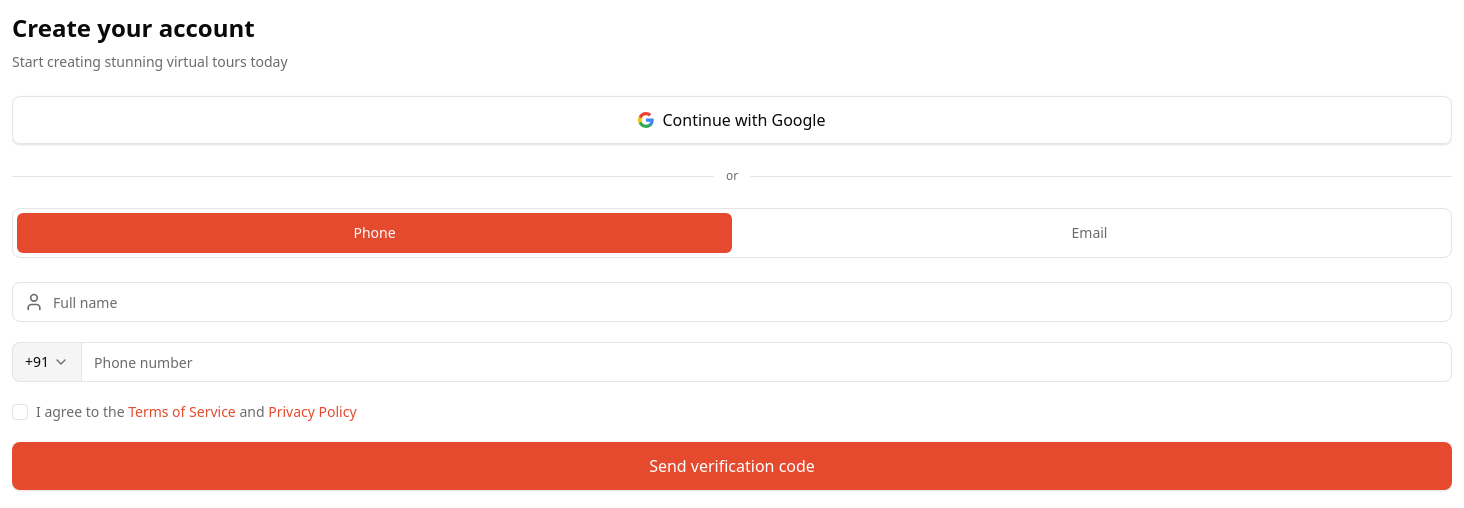
it: RegisterPage identifier gate › re-checks identifier status on resend and blocks when the status service is down
Click the tab "Email". click: [1090, 233]
box: [732,213,1447,253]
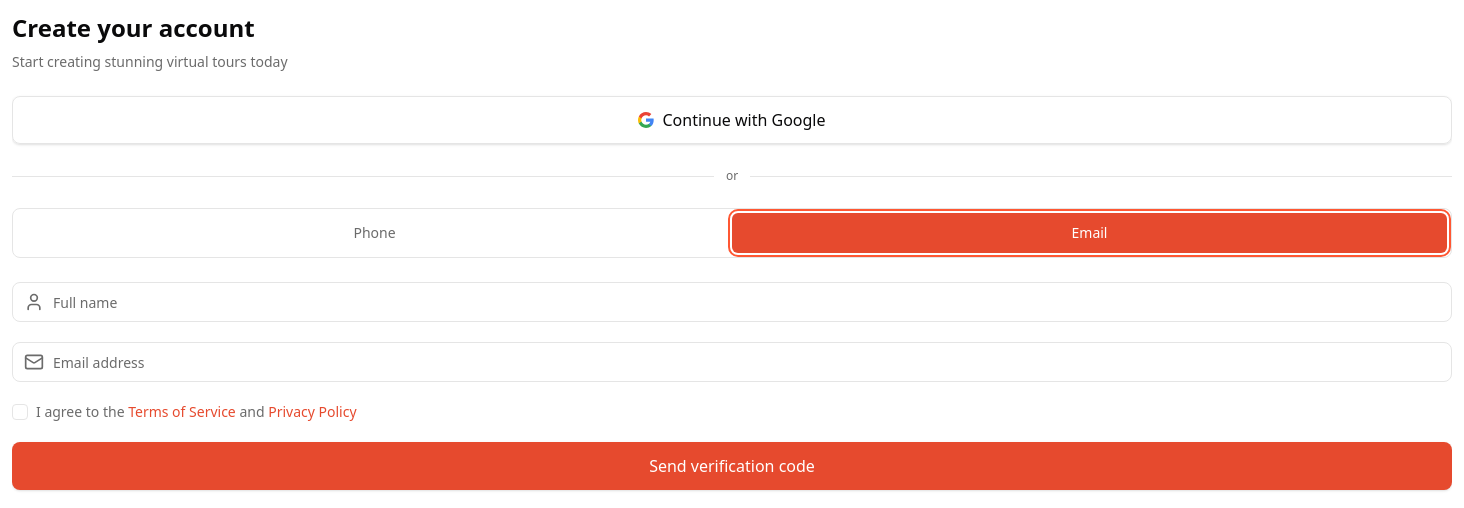
Type "Jane Doe" into the field labelled "Full name". click: [732, 302]
box: [12,282,1452,322]
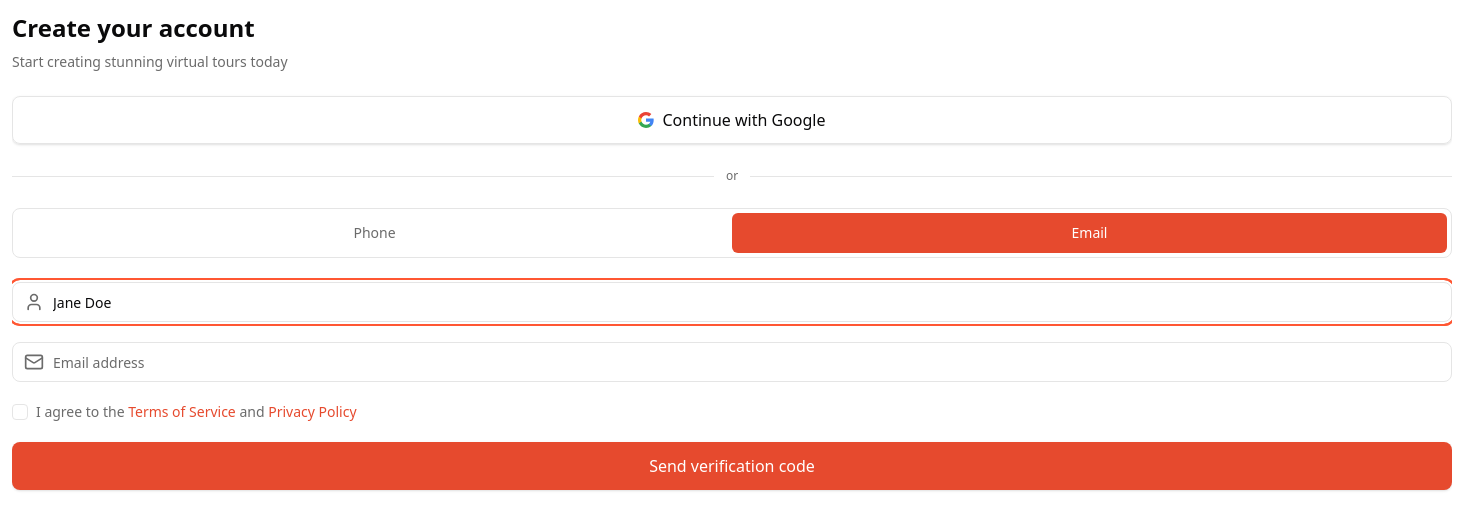
Type "new@example.com" into the field labelled "Email address". click: [732, 362]
box: [12,342,1452,382]
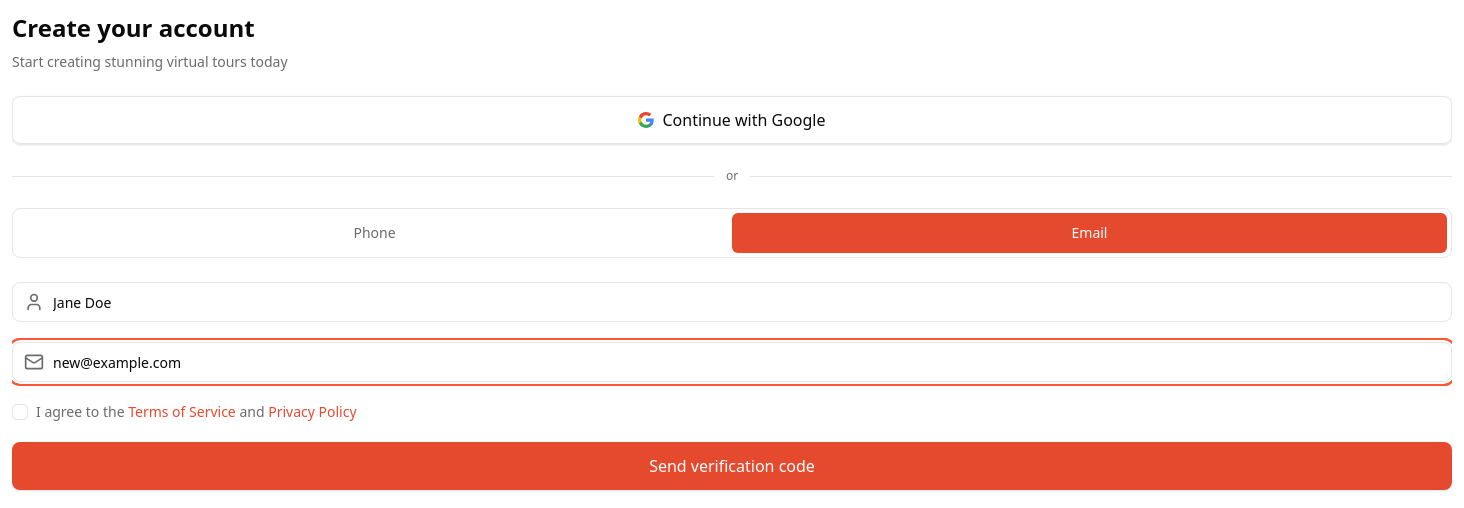
Click the checkbox. click: [20, 412]
box: [12,404,28,420]
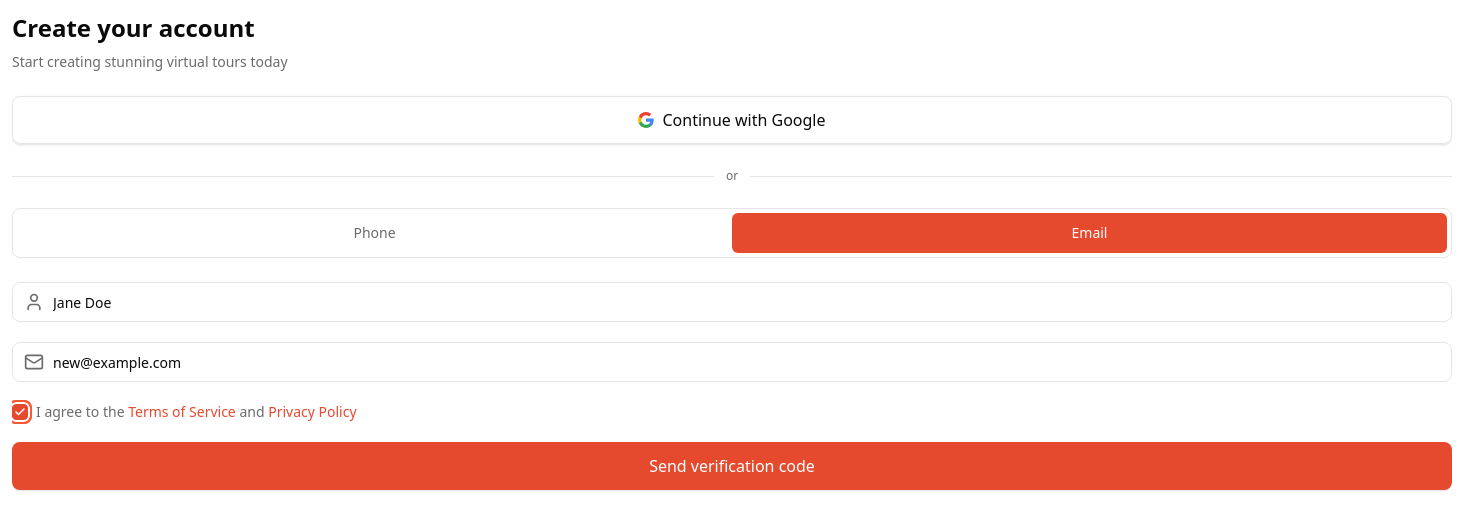
Click the button "Send verification code". click: [732, 466]
box: [12,442,1452,490]
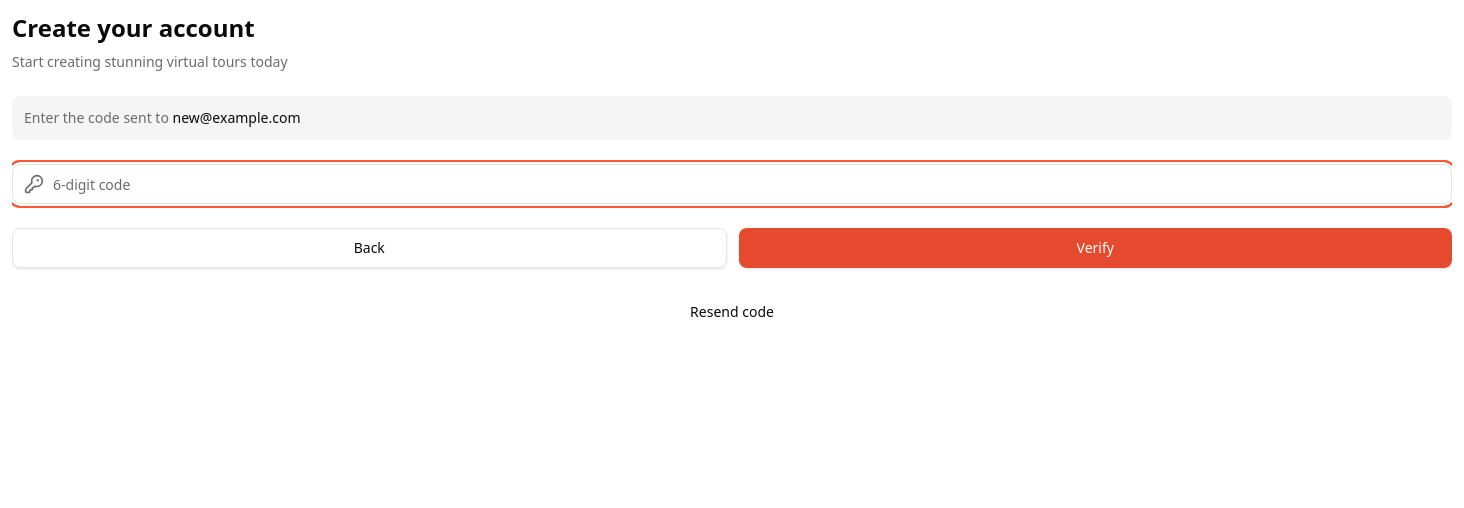
Expected: the text "Enter the code sent to new@example.com" is shown, [12,96,1452,140]
Click the button "Resend code". click: [732, 312]
box: [12,292,1452,332]
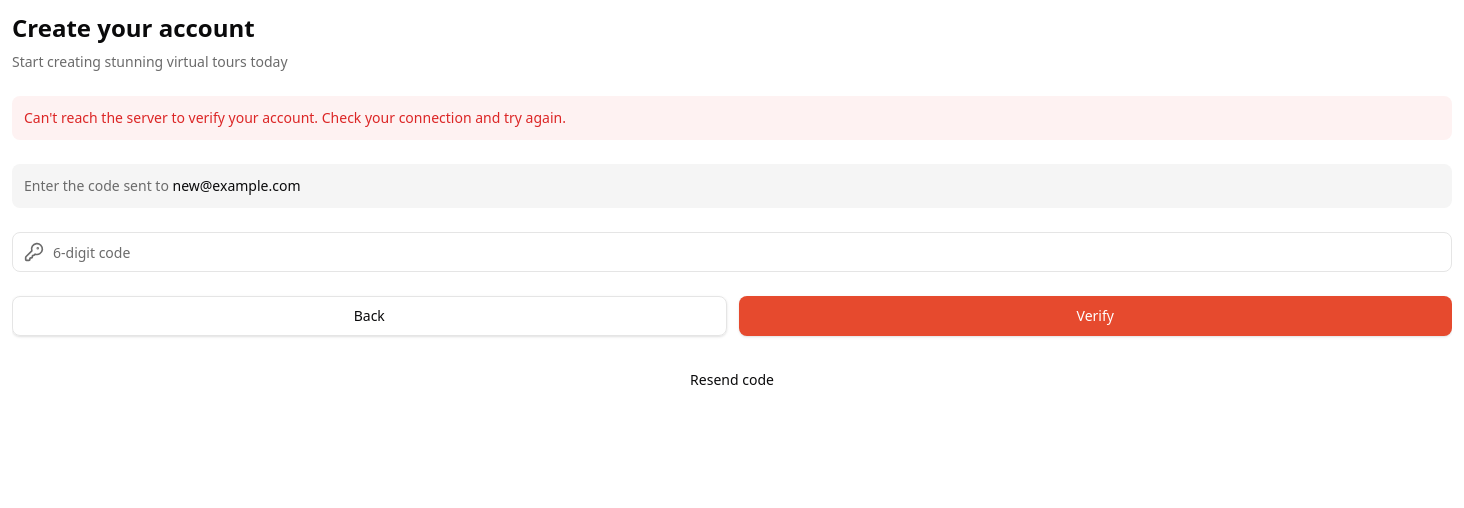
Expected: the text "Can't reach the server to verify your account. Check your connection and try again." is shown, [24,108,566,127]
